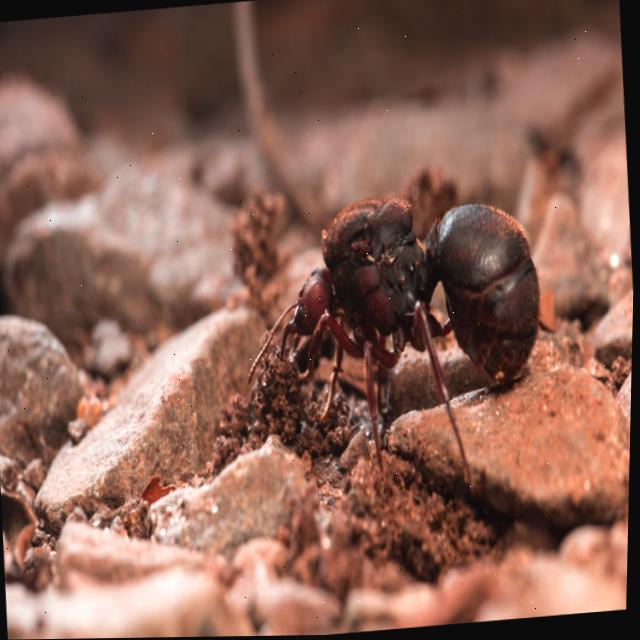Alive-Female-Dealate: (235, 181, 572, 512)
